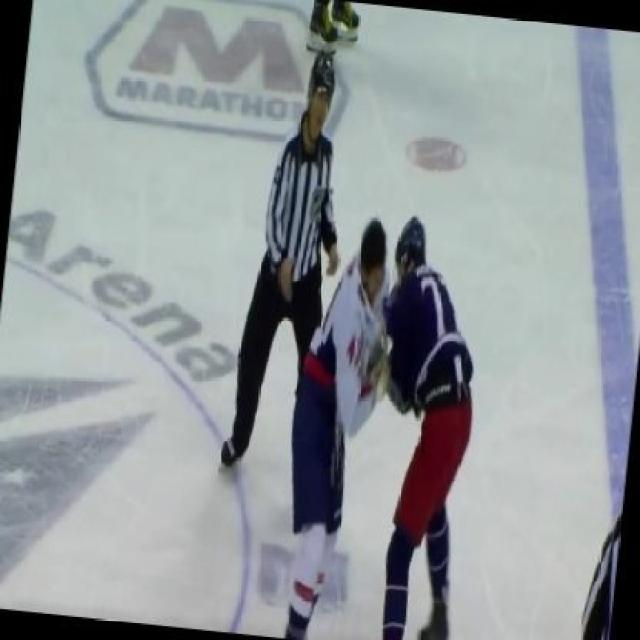fight: (284, 215, 476, 640)
non-fight: (220, 48, 353, 472)
